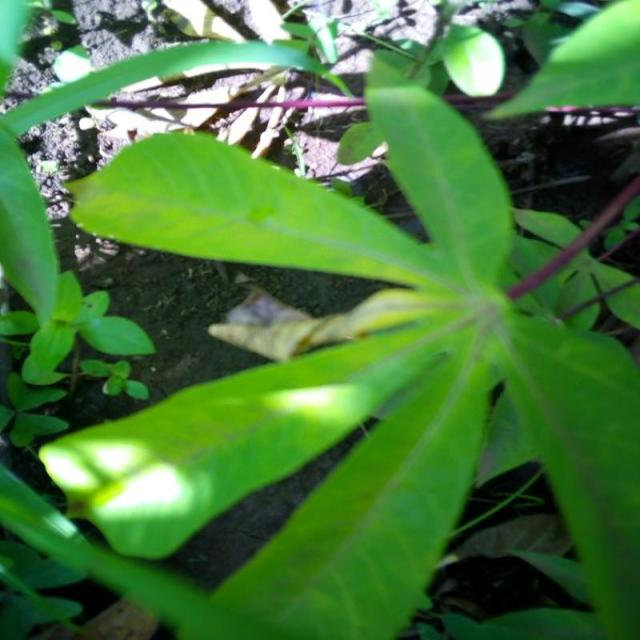cassava leaf: (37, 80, 639, 639)
